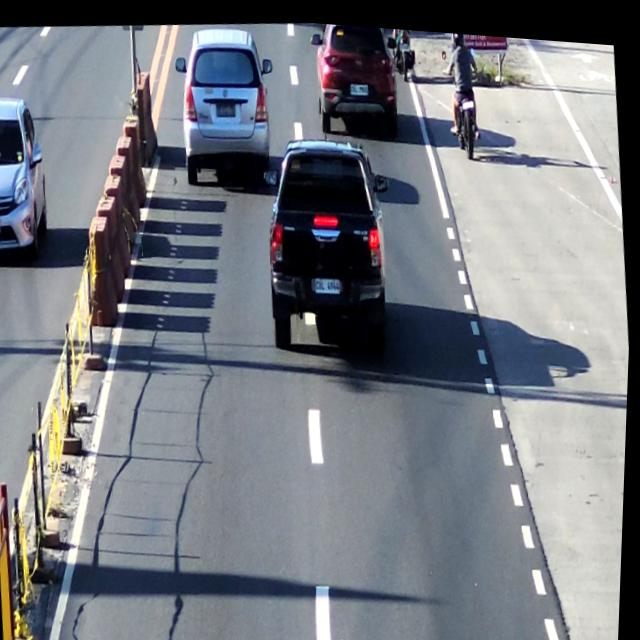Car: (262, 132, 395, 344), (173, 17, 272, 189), (314, 18, 401, 132)
License-Plate: (312, 267, 343, 297), (215, 92, 239, 118), (348, 73, 370, 94)
Motorcycle: (435, 26, 489, 153)
